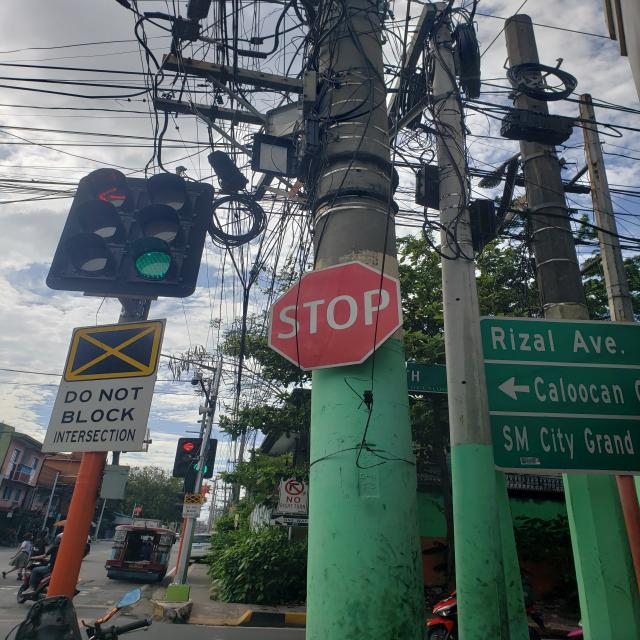stop-sign: (267, 260, 404, 372)
